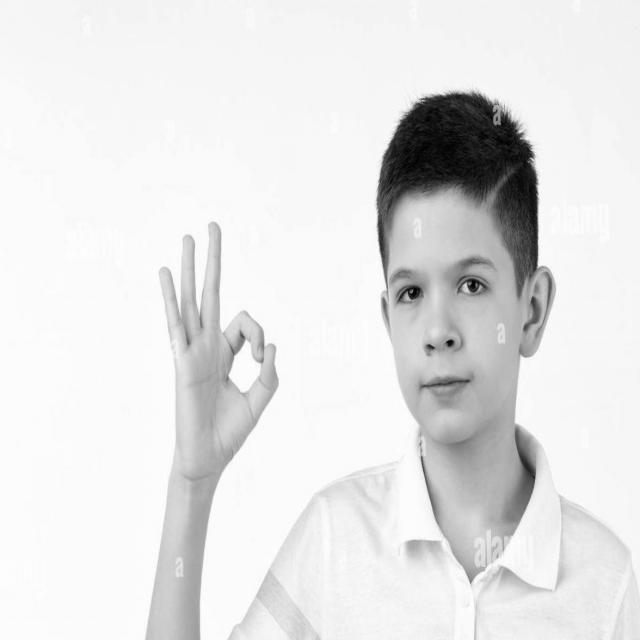perfect: (155, 215, 283, 492)
